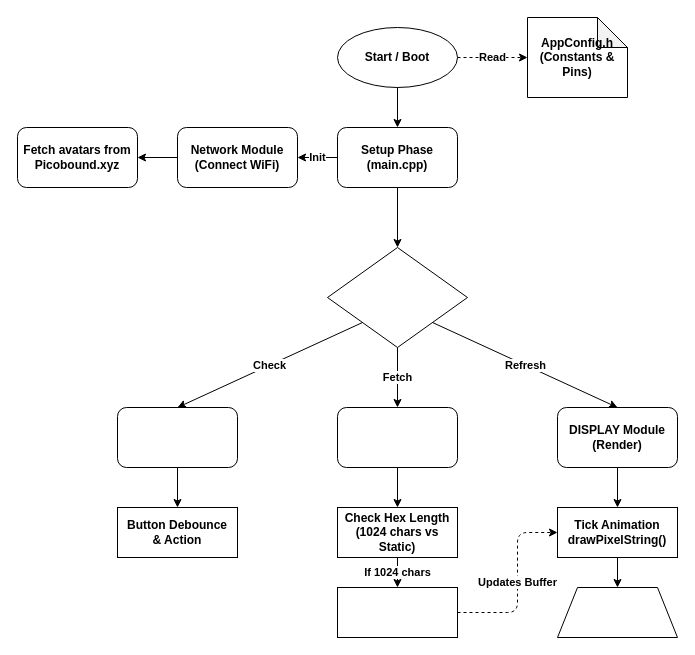
Image size: 695x655. Some labels were removed from this diagram. Each missing label, with the box of its shape:
BLOCKCHAIN Module (Fetch RPC): (336, 406, 458, 468)
Crop 32x32 to 4x 16x16 quadrants: (336, 586, 458, 638)
INPUT Module (Polling): (116, 406, 238, 468)
MAIN LOOP (Non-blocking): (326, 246, 468, 348)
Output to WS2812B Matrix: (556, 586, 678, 638)
